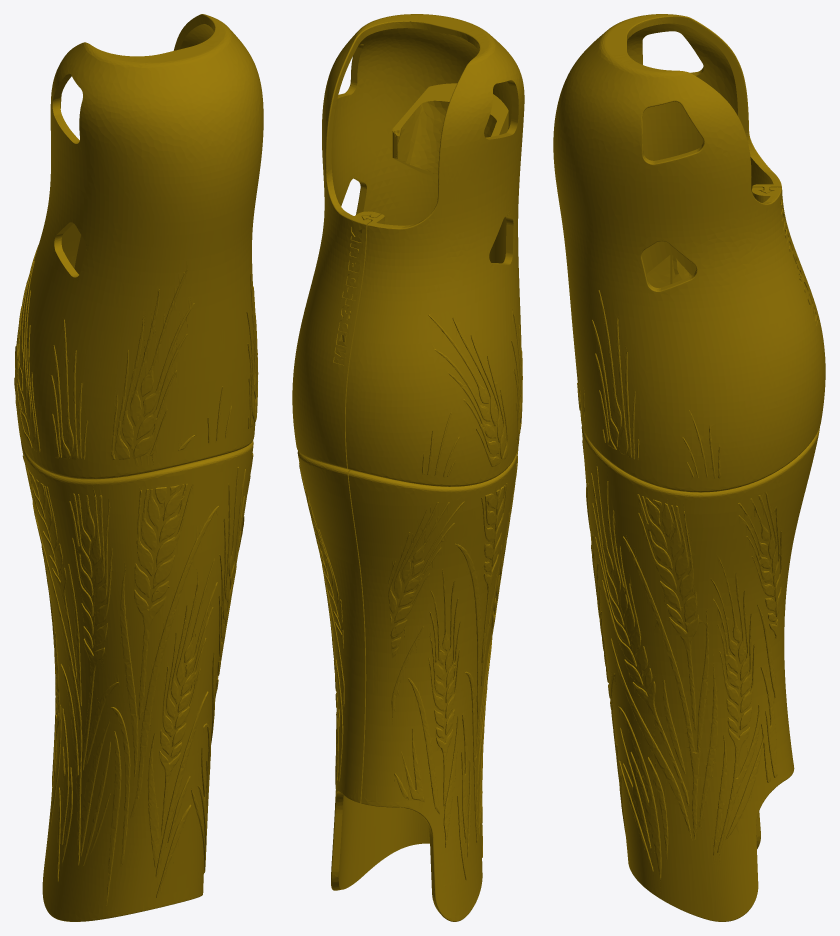
File: cosmetic4.glb
3 renders of one model, left to right at view 1: azimuth 30°, elevation 25°; view 2: azimuth 150°, elevation 25°; view 3: azimuth 270°, elevation 25°, orthographic. The views are drawn at different scales.
Parts seen in each view (by area): view 1: Железняк; view 2: Железняк; view 3: Железняк.
Boxes of the visible parts, left/top/right/bottom form: Железняк: left=14, top=14, right=263, bottom=921; Железняк: left=292, top=14, right=524, bottom=921; Железняк: left=553, top=14, right=825, bottom=921.
Size of the model in its own units: 115 by 471 by 136.
